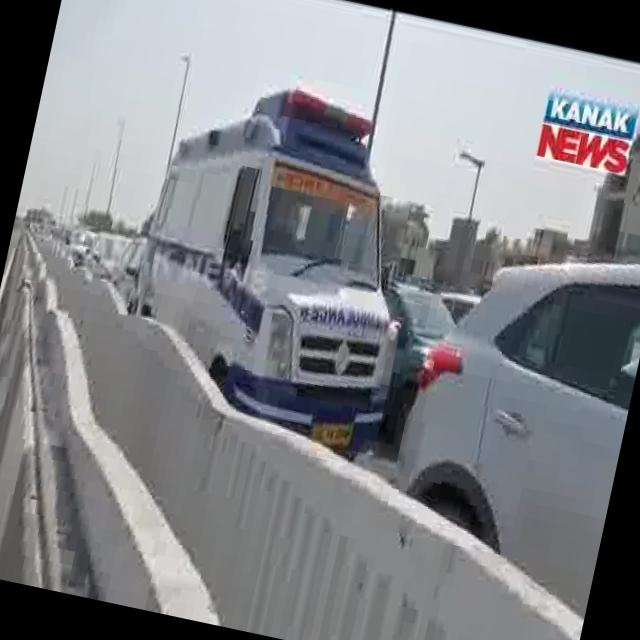ambulance: (97, 53, 456, 460)
